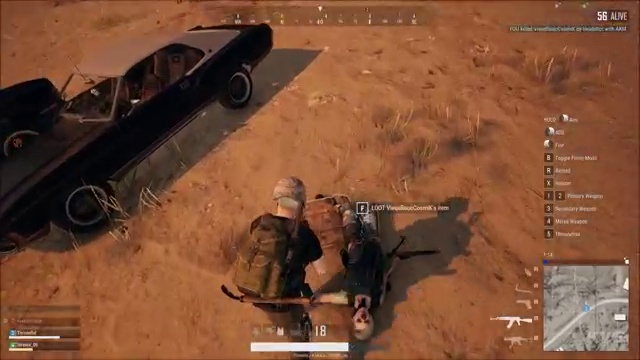Player: (216, 171, 329, 321)
